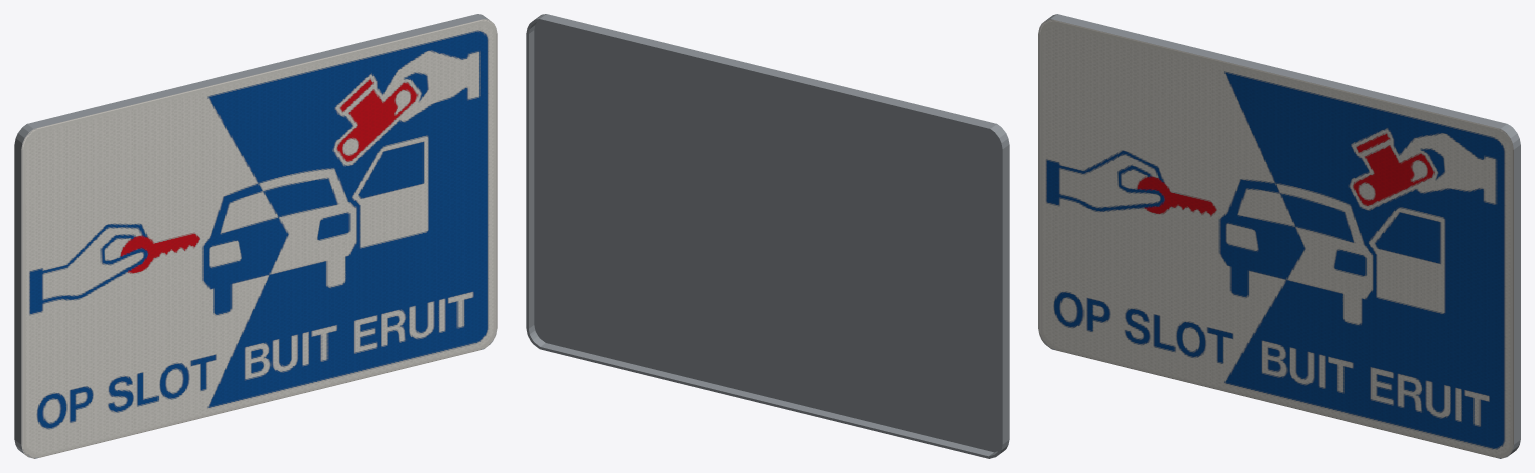
3 renders of one model, left to right at view 1: azimuth 30°, elevation 25°; view 2: azimuth 150°, elevation 25°; view 3: azimuth 330°, elevation 25°, orthographic.
Parts seen in each view (by area): view 1: cat_065e6df173612f86; view 2: cat_065e6df173612f86; view 3: cat_065e6df173612f86.
Boxes of the visible parts, left/top/right/bottom form: cat_065e6df173612f86: left=14, top=14, right=497, bottom=458; cat_065e6df173612f86: left=526, top=14, right=1009, bottom=458; cat_065e6df173612f86: left=1038, top=14, right=1520, bottom=458.
Bounding box in the file's own units: 0.6 × 0.015 × 0.3977.
Materials: 2 (1 with a texture image).
